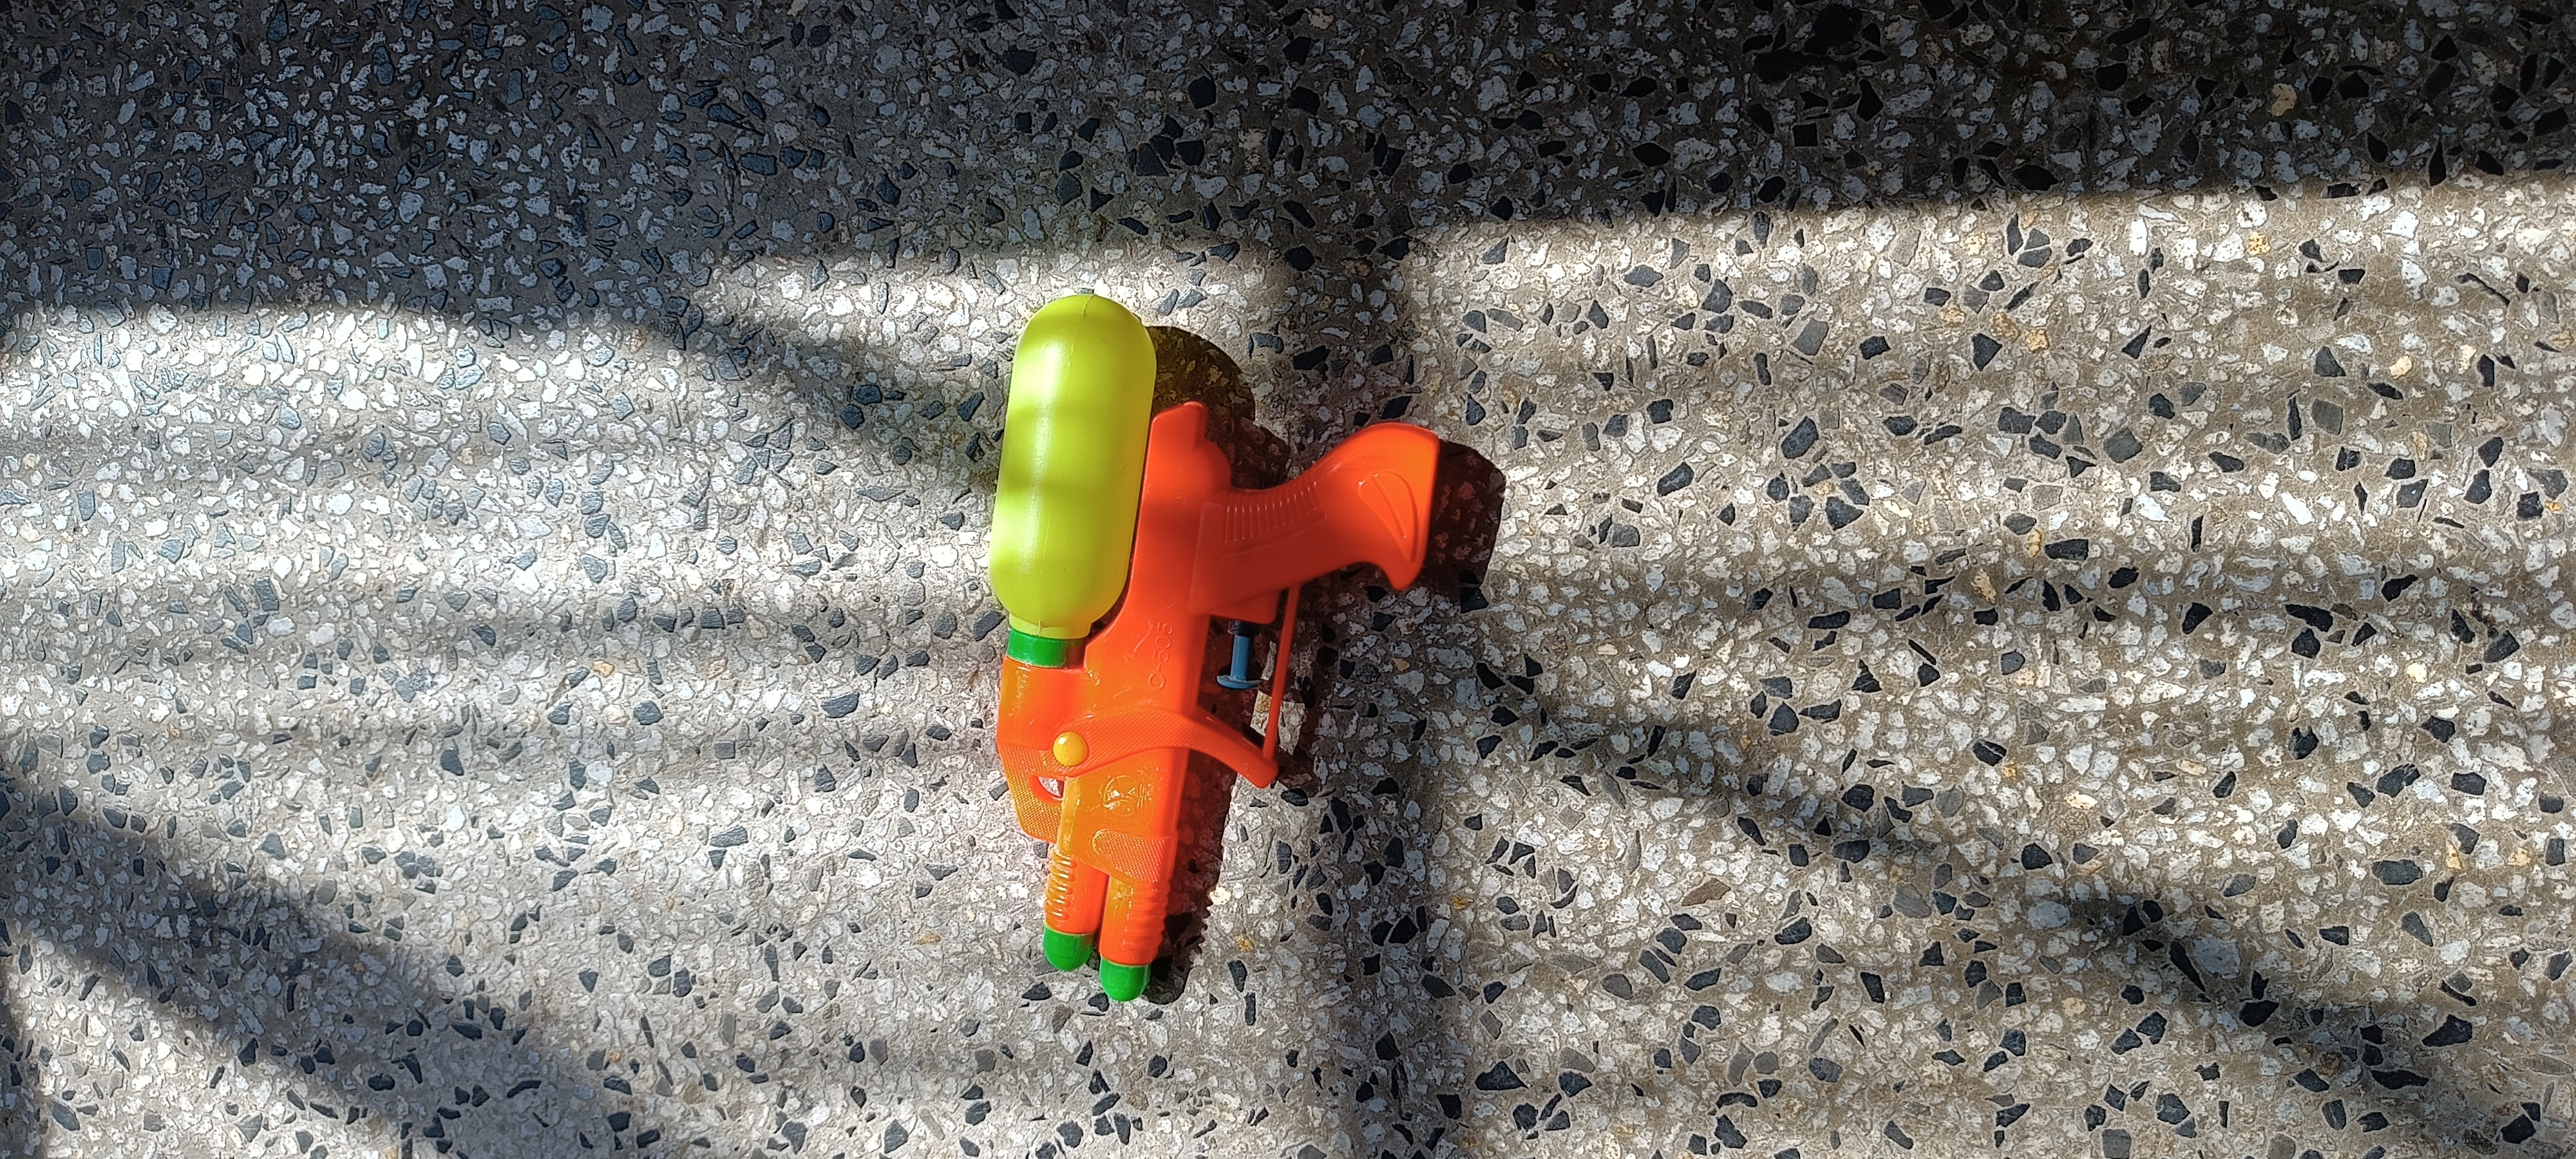Water Gun: (987, 292, 1441, 1005)
